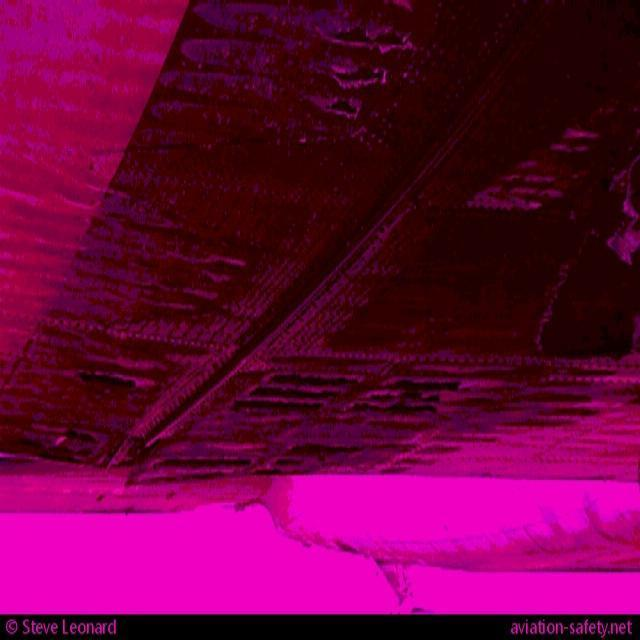crack: (312, 15, 420, 118)
